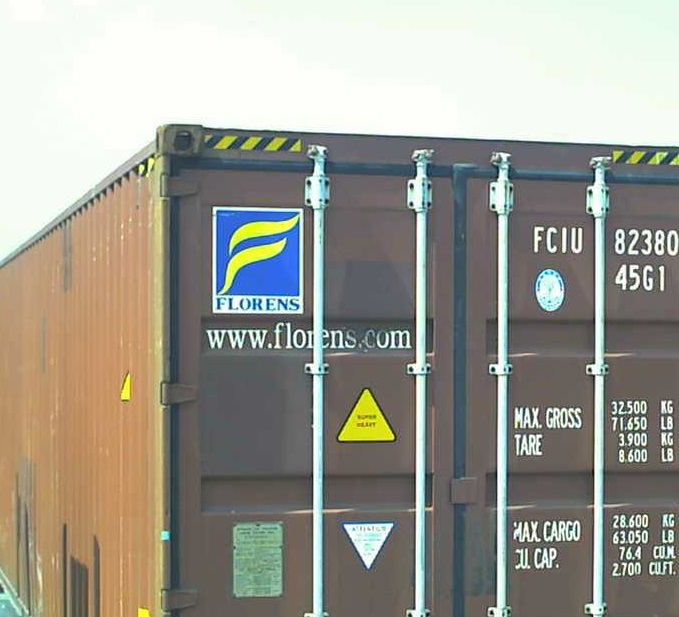container_door: (154, 121, 677, 617)
